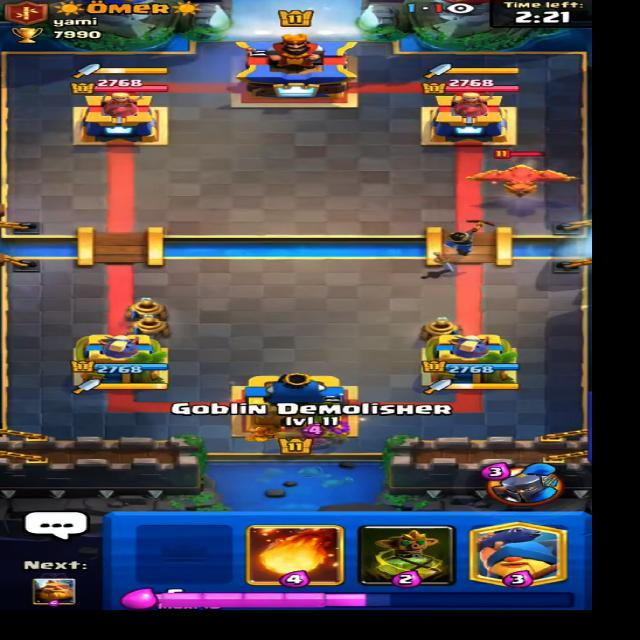phoenix: (472, 152, 586, 202)
